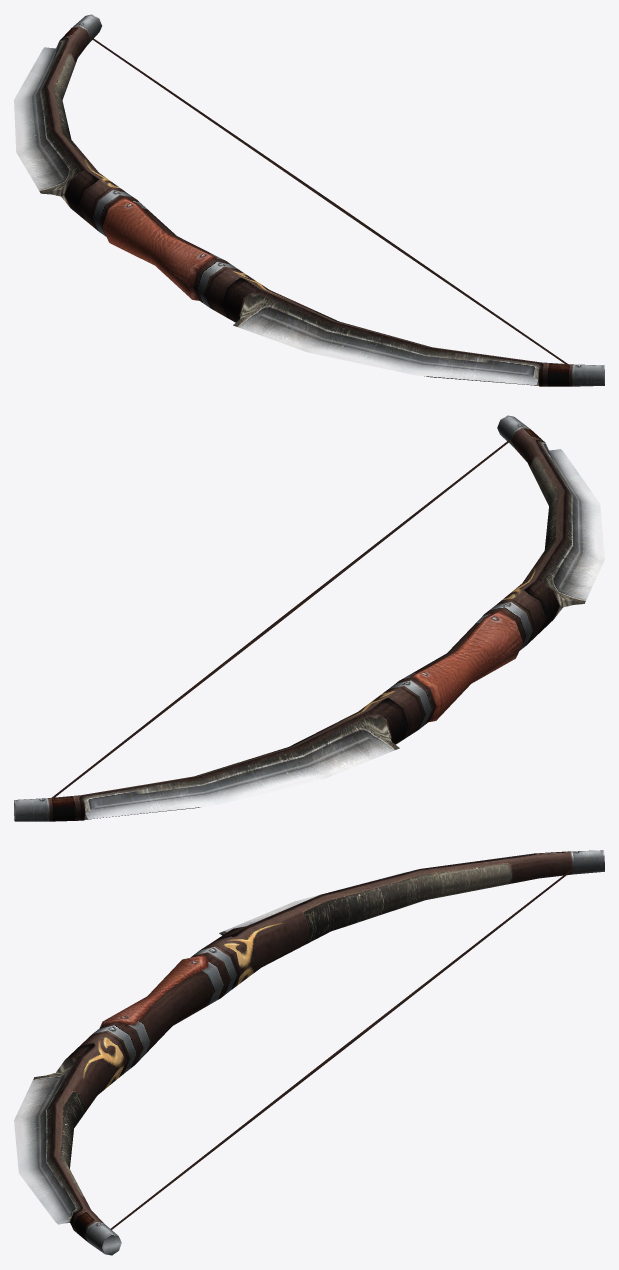
Rendered from rank_kung_2_W.glb.
3 renders of one model, top to bottom at view 1: azimuth 30°, elevation 25°; view 2: azimuth 150°, elevation 25°; view 3: azimuth 330°, elevation 25°, orthographic. The views are drawn at different scales.
Parts seen in each view (by area): view 1: weapon; view 2: weapon; view 3: weapon.
Part boxes in pixels (x1,y1,x2,y2): weapon: [14, 14, 604, 386]; weapon: [14, 415, 604, 821]; weapon: [14, 850, 604, 1255].
Bounding box in the file's own units: 7.44 × 1.34 × 27.16.
1 material, 1 textured.
